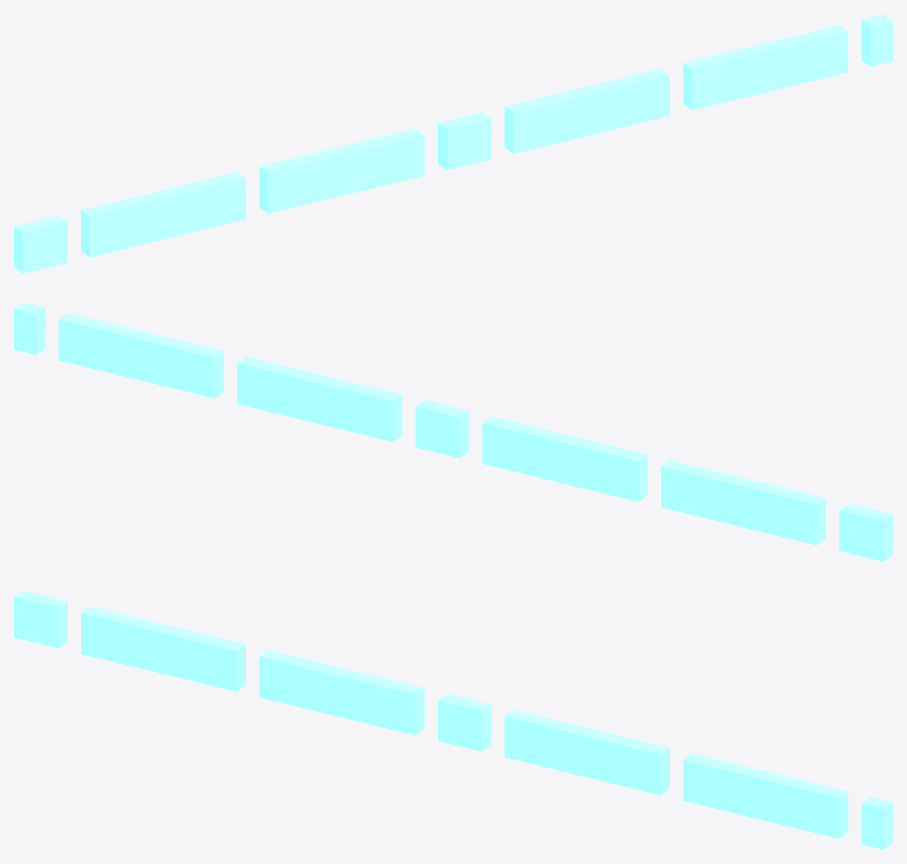
The model's file is runeband_l8.fbx.
The picture shows the model from 3 angles, top to bottom: view 1: azimuth 30°, elevation 25°; view 2: azimuth 150°, elevation 25°; view 3: azimuth 330°, elevation 25°; orthographic projection.
Visible parts, largest first — view 1: runeband_l8; view 2: runeband_l8; view 3: runeband_l8.
Part boxes in pixels (x1,y1,x2,y2): runeband_l8: [14, 14, 892, 273]; runeband_l8: [14, 302, 892, 561]; runeband_l8: [14, 590, 892, 849].
Bounding box in the file's own units: 780 × 35 × 14.
